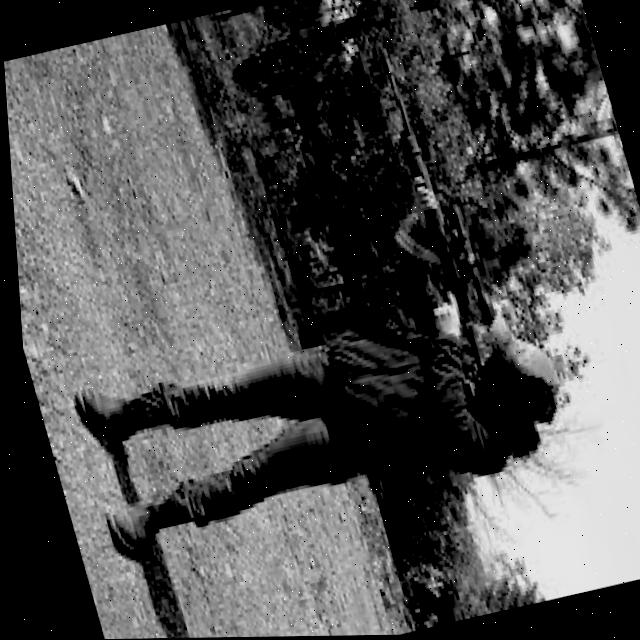firearm: (338, 38, 511, 424)
